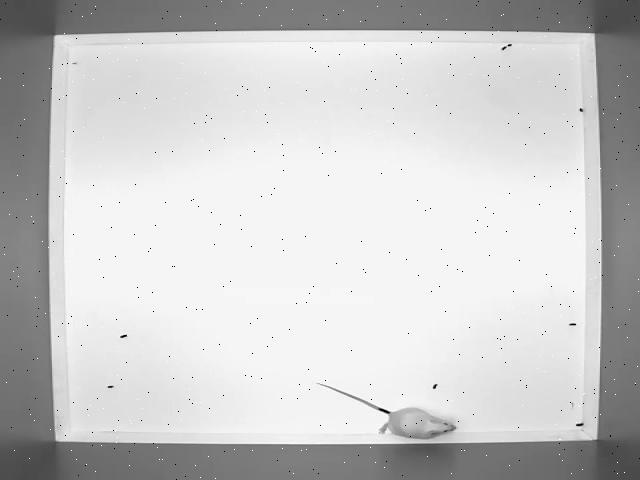Tikus: (312, 376, 458, 442)
